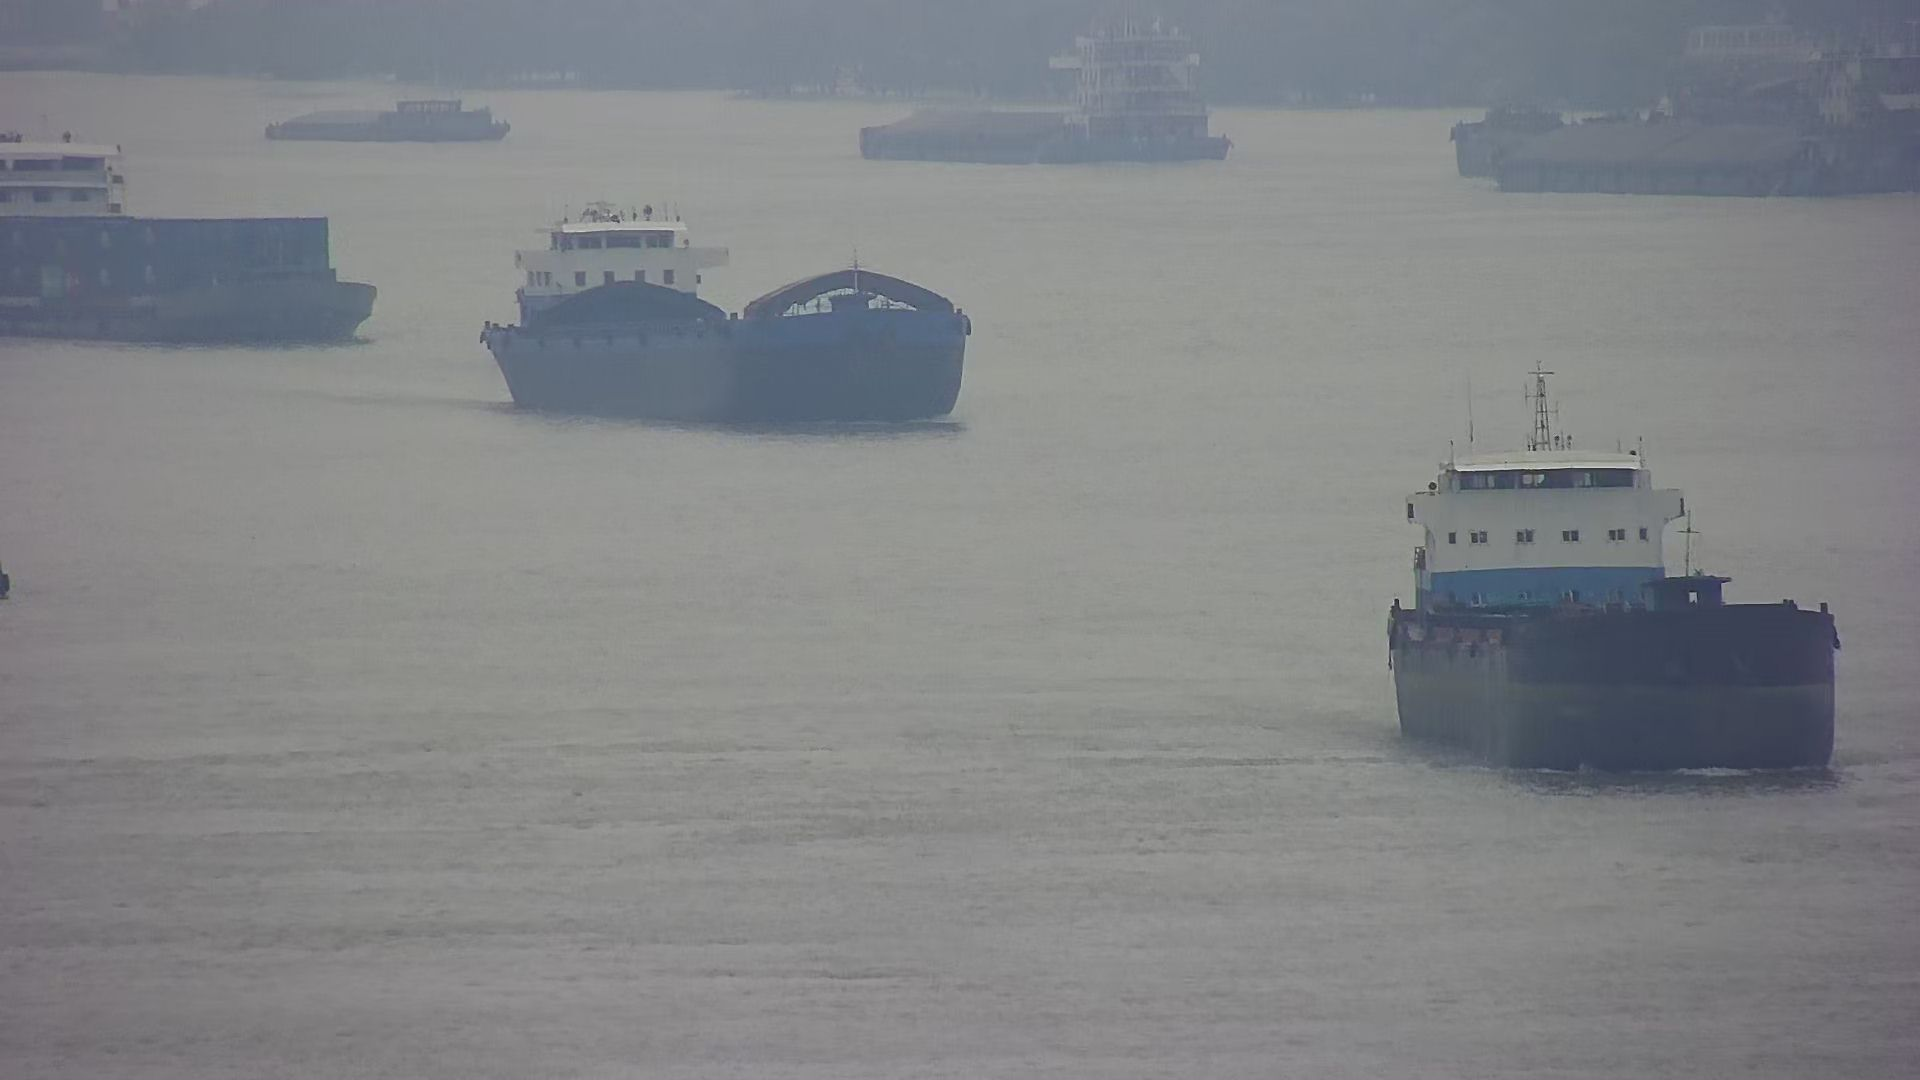ship: (1394, 455, 1836, 771), (485, 211, 968, 426), (1, 131, 377, 340), (1451, 26, 1920, 179), (1495, 45, 1920, 198), (857, 30, 1232, 160), (266, 99, 508, 145)
